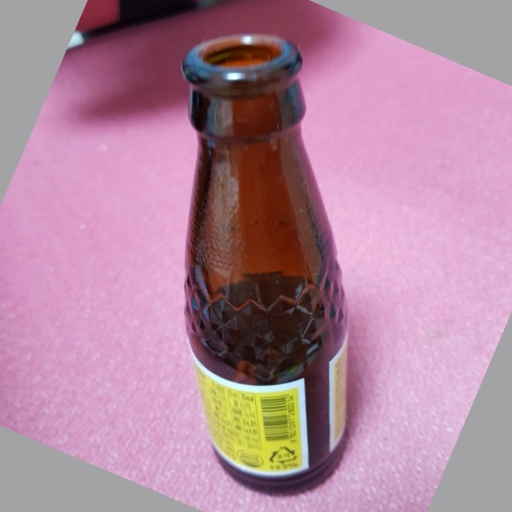Glass_3: (180, 28, 354, 496)
